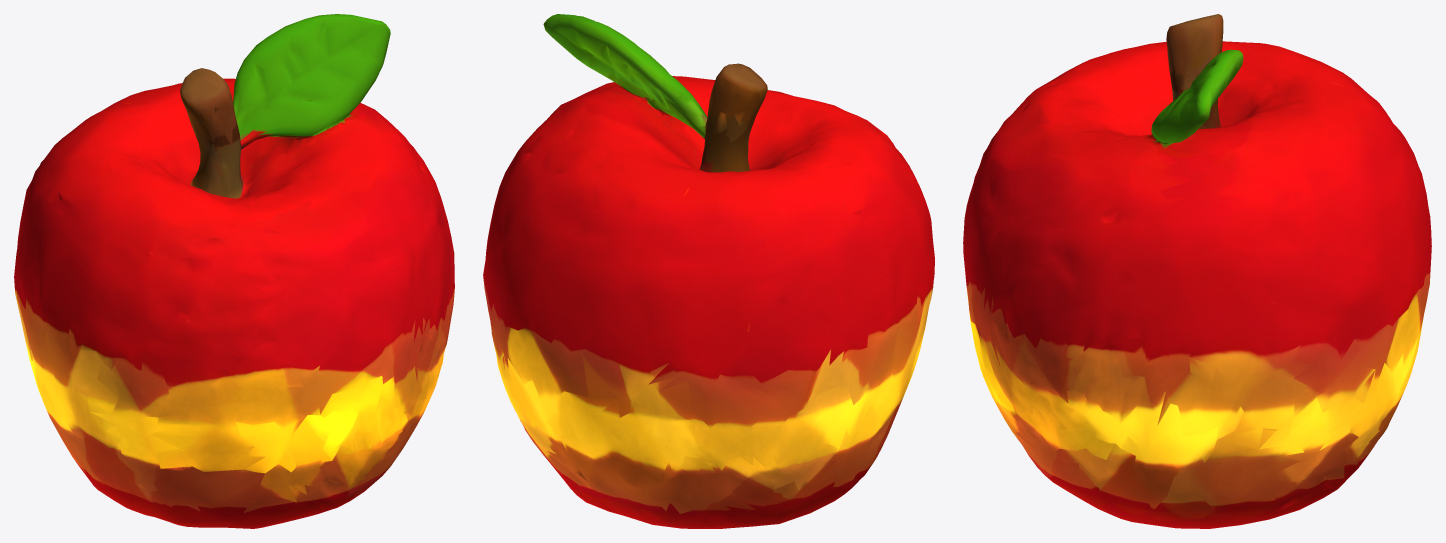
The model's file is Object_Apple.fbx.
The picture shows the model from 3 angles, left to right: view 1: azimuth 30°, elevation 25°; view 2: azimuth 150°, elevation 25°; view 3: azimuth 270°, elevation 25°; orthographic projection. The views are drawn at different scales.
Visible parts, largest first — view 1: Mesh_0; view 2: Mesh_0; view 3: Mesh_0.
Part boxes in pixels (left/top/right/bottom): Mesh_0: left=14, top=14, right=454, bottom=528; Mesh_0: left=483, top=14, right=934, bottom=528; Mesh_0: left=963, top=14, right=1431, bottom=528.
Bounding box in the file's own units: 174 × 190 × 173.
